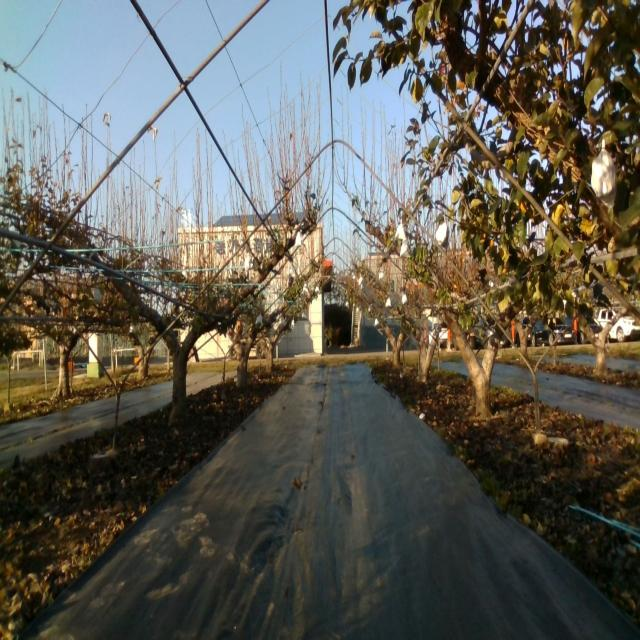pearbags: (591, 142, 618, 205), (435, 222, 448, 247)
